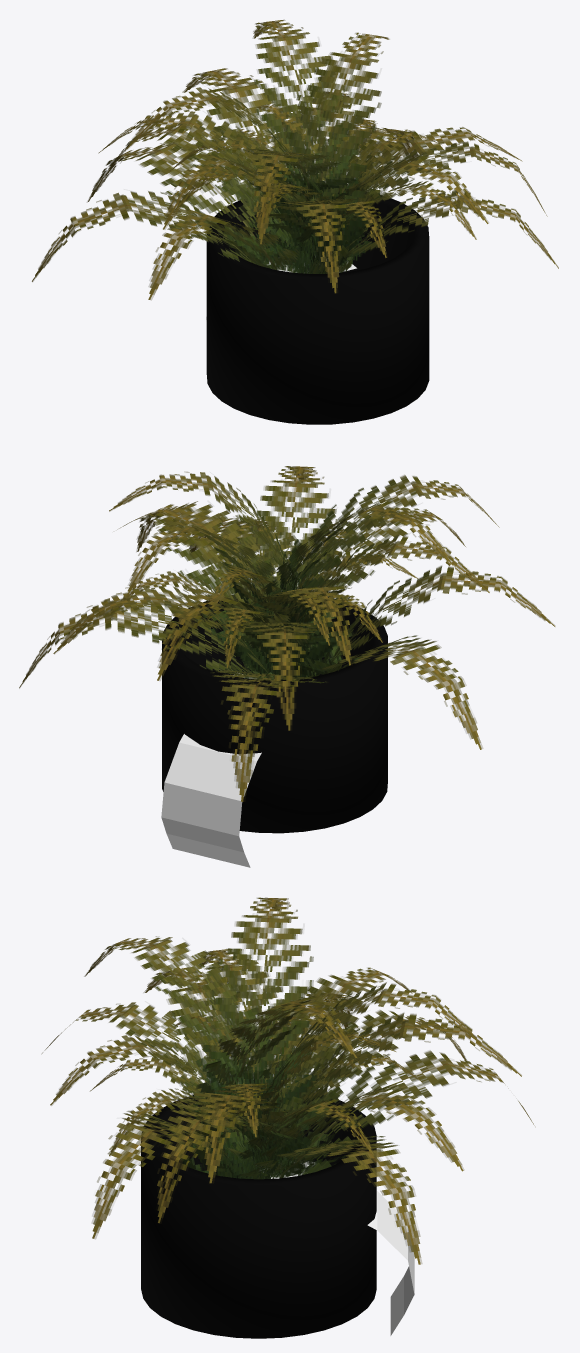
File: desk_plant.glb
3 renders of one model, top to bottom at view 1: azimuth 30°, elevation 25°; view 2: azimuth 150°, elevation 25°; view 3: azimuth 270°, elevation 25°, orthographic. The views are drawn at different scales.
Parts seen in each view (by area): view 1: FernPot, Plane.012, Plane.013, Plane.021, Plane.025, Plane.024, Plane.027, Plane.020, Plane.015, Plane.009, Plane.022, Plane.023 (+15 smaller); view 2: FernPot, Plane.019, Plane.011, Plane.027, Plane.018, Plane.024, Plane.017, Plane.025, Plane.021, Plane.009, Plane.020, Plane.022 (+16 smaller); view 3: FernPot, Plane.014, Plane.027, Plane.025, Plane.018, Plane.012, Plane.023, Plane.016, Plane.022, Plane.021, Plane.015, Plane.026 (+17 smaller).
Part boxes in pixels (x1,y1,x2,y2): FernPot: (206, 191, 429, 424); Plane.012: (271, 32, 389, 266); Plane.013: (253, 19, 367, 219); Plane.021: (184, 68, 314, 272); Plane.025: (87, 142, 293, 269); Plane.024: (148, 209, 300, 300); Plane.027: (244, 149, 360, 244); Plane.020: (32, 191, 265, 281); Plane.015: (265, 198, 369, 293); Plane.009: (98, 111, 304, 273); Plane.022: (299, 127, 522, 273); Plane.023: (318, 190, 558, 273); FernPot: (162, 595, 387, 833); Plane.019: (161, 673, 261, 867); Plane.011: (232, 466, 340, 678); Plane.027: (280, 475, 499, 624); Plane.018: (19, 596, 260, 688); Plane.024: (318, 565, 555, 675); Plane.017: (225, 622, 336, 730); Plane.025: (210, 670, 328, 801); Plane.021: (157, 588, 337, 680); Plane.009: (236, 585, 352, 679); Plane.020: (308, 635, 482, 749); Plane.022: (117, 504, 322, 680); FernPot: (141, 1089, 376, 1338); Plane.014: (201, 897, 317, 1124); Plane.027: (84, 936, 283, 1115); Plane.025: (288, 1050, 534, 1175); Plane.018: (237, 1136, 422, 1264); Plane.012: (186, 996, 357, 1151); Plane.023: (92, 1111, 275, 1238); Plane.016: (156, 1098, 303, 1223); Plane.022: (182, 1092, 314, 1183); Plane.021: (263, 1013, 521, 1178); Plane.015: (42, 1002, 248, 1163); Plane.026: (245, 1085, 463, 1179).
Size of the model in its own units: 1.56 by 1.02 by 1.47.
Materials: 3 (1 with a texture image).
